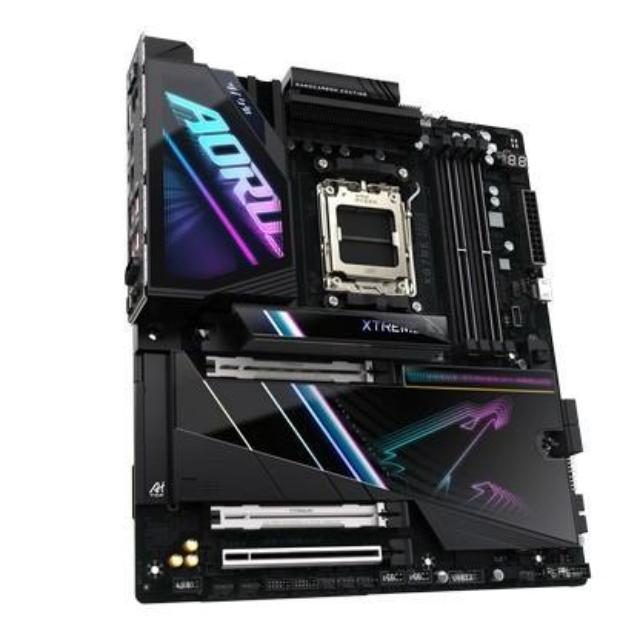Mainboard: (113, 31, 619, 624)
